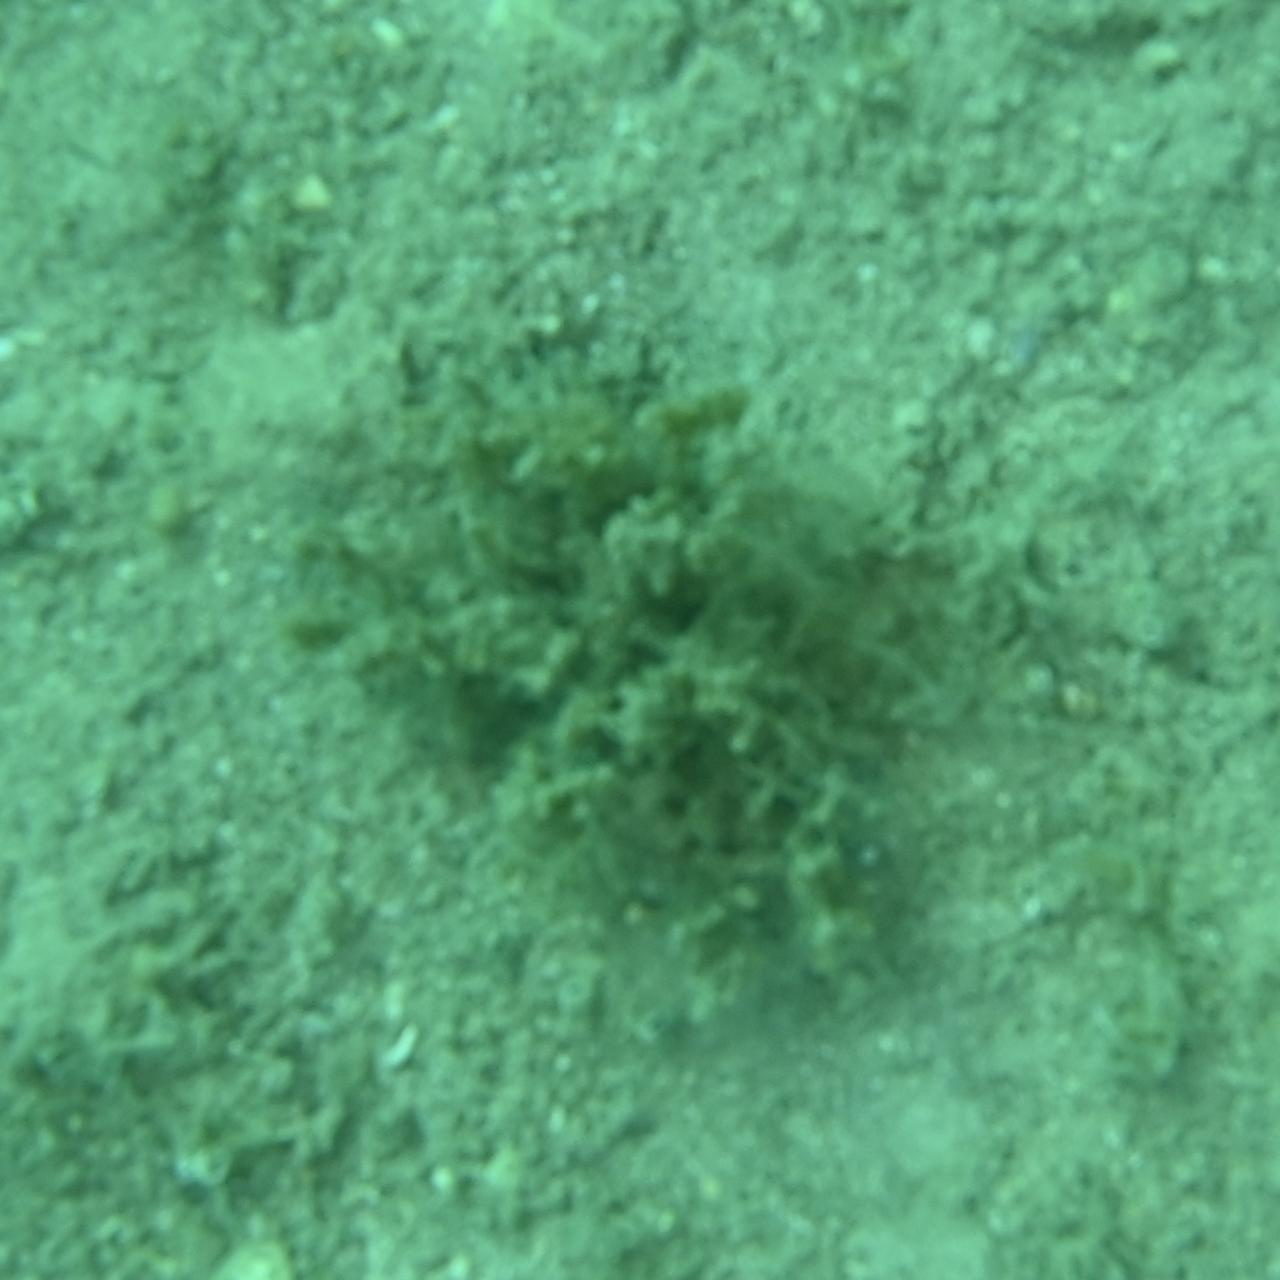Phaeophyceae -cfr Cystoseira-: (302, 290, 978, 990)
